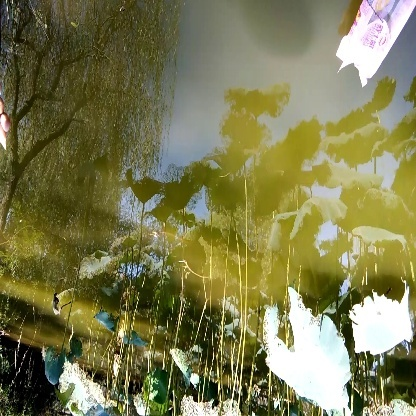plastic-bag: (336, 1, 411, 89)
